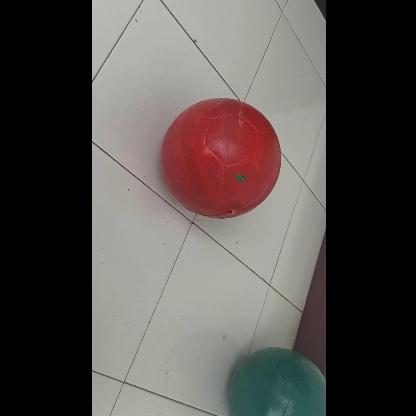red_ball: (160, 96, 280, 216)
